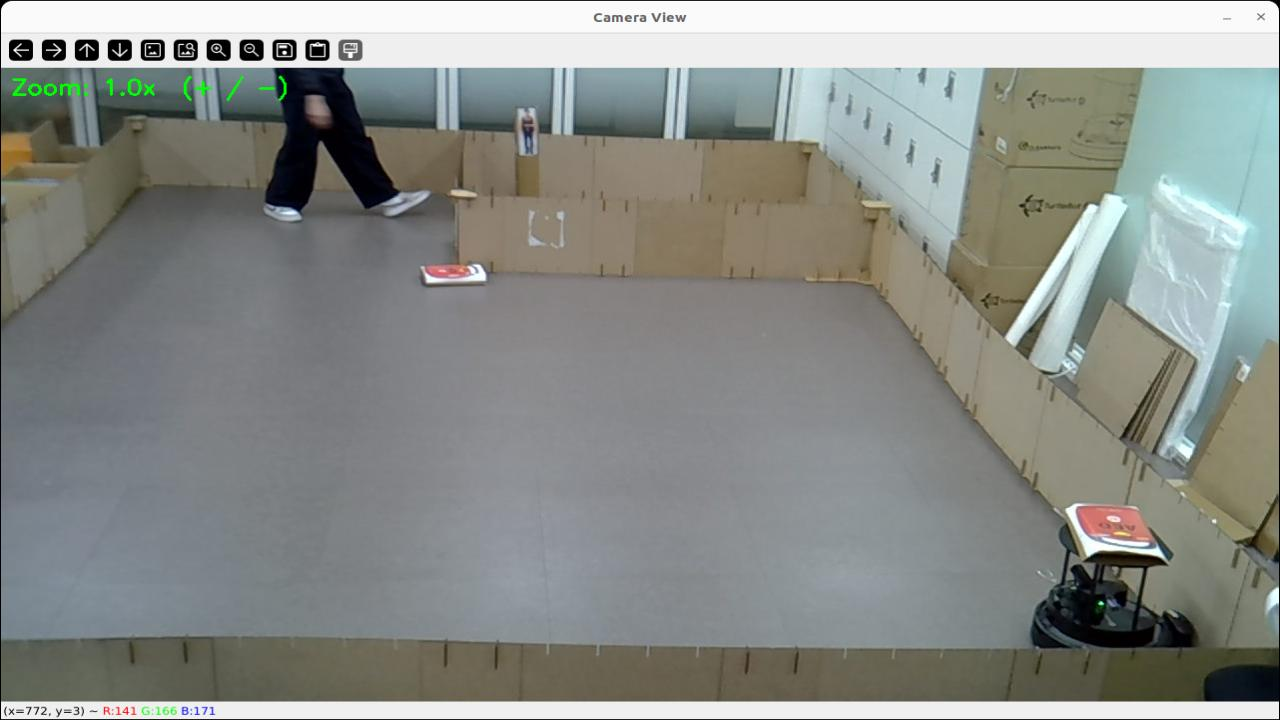AED: (1066, 503, 1167, 566), (421, 263, 486, 286)
Robot: (1031, 524, 1193, 647)
